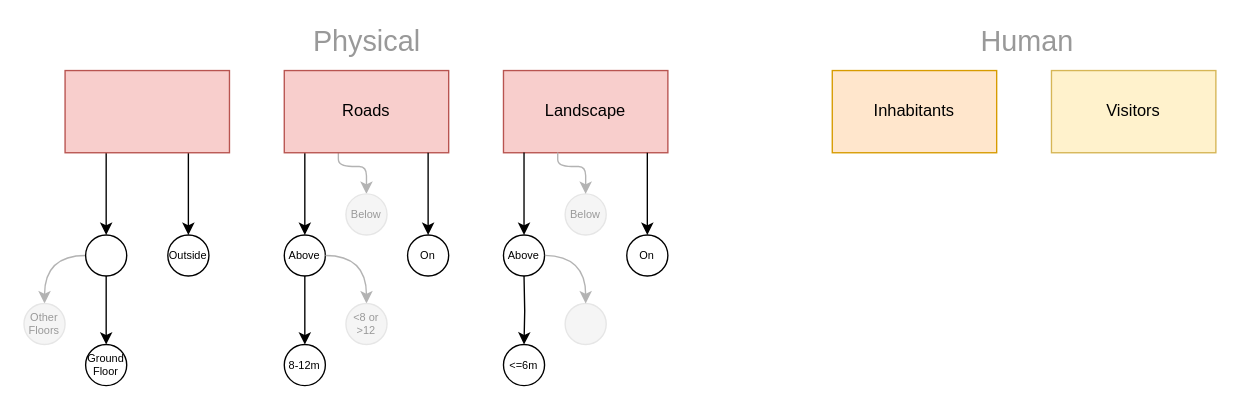
Some shapes in this 1240 by 410 pixel diagram are drawn without their labels. The shapes that lost their labels are listed below. From the top down, each one's centre as x and y in pixels, then its label:
point 146,111: Buildings
point 105,255: Inside
